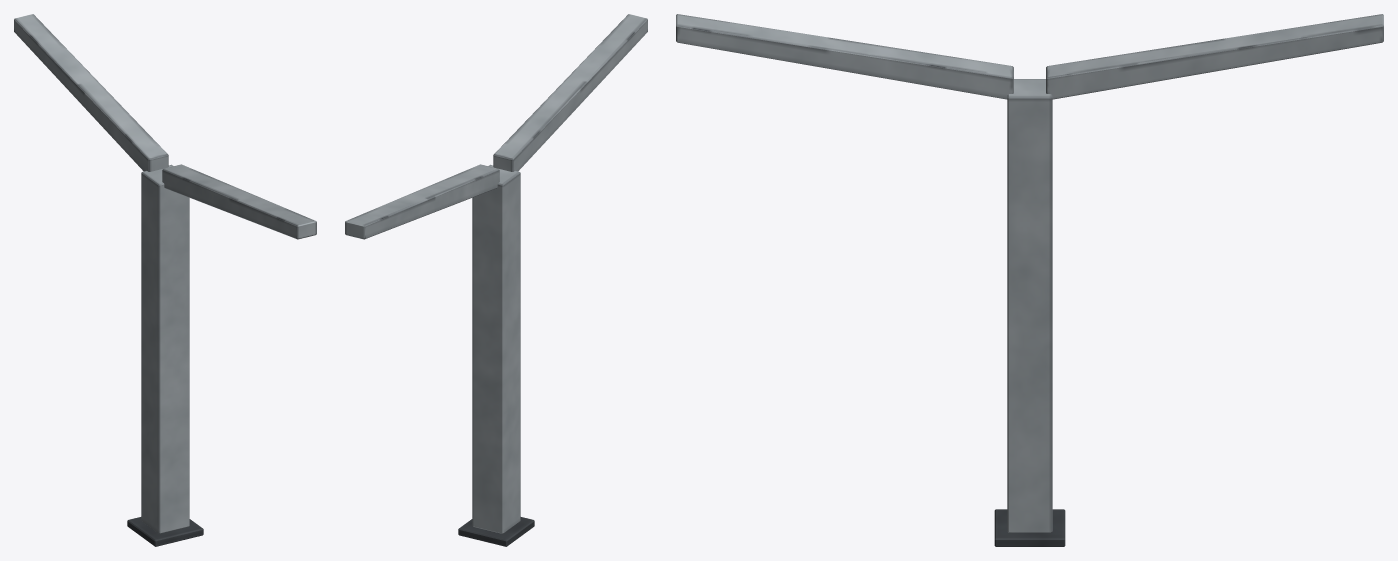
The model's file is roof_pillar.fbx.
3 views of the same model, side by side, from view 1: azimuth 30°, elevation 25°; view 2: azimuth 150°, elevation 25°; view 3: azimuth 270°, elevation 25° (orthographic). The views are drawn at different scales.
Visible parts, largest first — view 1: roof_pillar; view 2: roof_pillar; view 3: roof_pillar.
Part boxes in pixels (box(x1,y1,x2,y2)): roof_pillar: box(14, 14, 316, 546); roof_pillar: box(345, 14, 647, 546); roof_pillar: box(676, 14, 1383, 546).
Size of the model in its own units: 0.44 by 4.4 by 3.52.
Materials: 1 (1 with a texture image).
